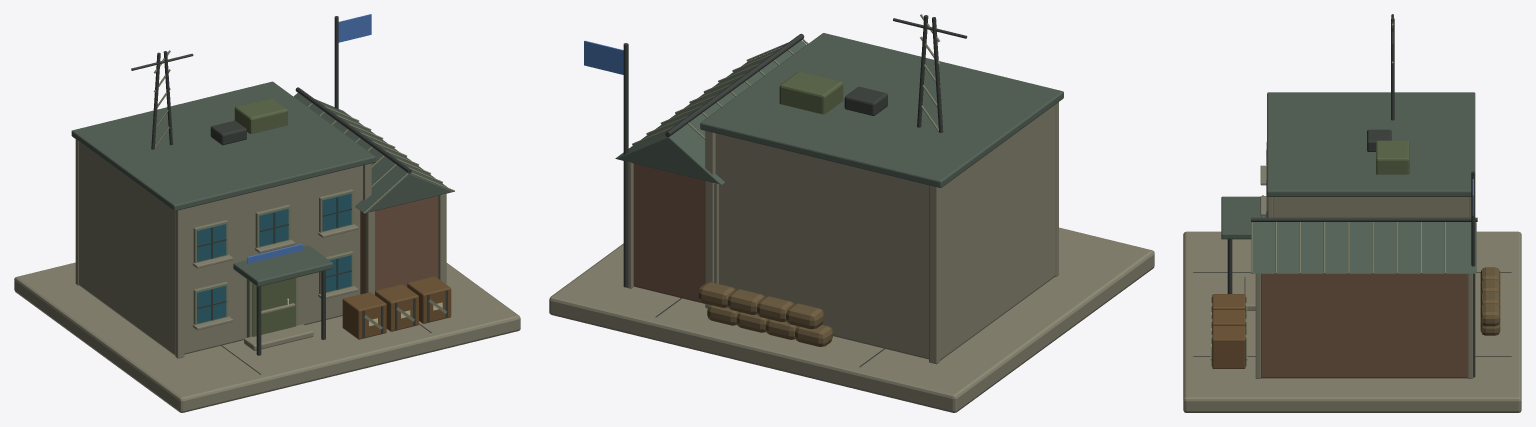
File: headquarters.glb
The picture shows the model from 3 angles, left to right: view 1: azimuth 30°, elevation 25°; view 2: azimuth 150°, elevation 25°; view 3: azimuth 270°, elevation 25°; orthographic projection. The views are drawn at different scales.
Visible parts, largest first — view 1: Concrete, RoofMetal, Masonry, Steel, Optics, Timber, EdgeSteel, Armor, TeamColor; view 2: Concrete, RoofMetal, Masonry, Steel, Canvas, Armor, EdgeSteel, TeamColor; view 3: RoofMetal, Concrete, Masonry, Steel, Timber, Canvas, EdgeSteel, Armor.
Part boxes in pixels (left/top/right/bottom): Concrete: left=14, top=139, right=520, bottom=412; RoofMetal: left=71, top=81, right=453, bottom=286; Masonry: left=360, top=196, right=438, bottom=294; Steel: left=131, top=16, right=447, bottom=374; Optics: left=197, top=193, right=351, bottom=323; Timber: left=342, top=276, right=451, bottom=339; EdgeSteel: left=154, top=50, right=454, bottom=337; Armor: left=234, top=98, right=295, bottom=336; TeamColor: left=247, top=14, right=371, bottom=263; Concrete: left=549, top=102, right=1154, bottom=412; RoofMetal: left=615, top=33, right=1063, bottom=187; Masonry: left=633, top=163, right=705, bottom=303; Steel: left=623, top=15, right=967, bottom=366; Canvas: left=698, top=282, right=832, bottom=346; Armor: left=779, top=71, right=843, bottom=114; EdgeSteel: left=632, top=14, right=939, bottom=145; TeamColor: left=584, top=40, right=623, bottom=74; RoofMetal: left=1221, top=92, right=1476, bottom=273; Concrete: left=1183, top=165, right=1521, bottom=412; Masonry: left=1261, top=273, right=1467, bottom=378; Steel: left=1193, top=14, right=1511, bottom=377; Timber: left=1212, top=294, right=1245, bottom=368; Canvas: left=1480, top=267, right=1500, bottom=335; EdgeSteel: left=1210, top=23, right=1445, bottom=360; Armor: left=1376, top=140, right=1409, bottom=174.
Size of the model in its own units: 7.4 by 5.51 by 6.3.
